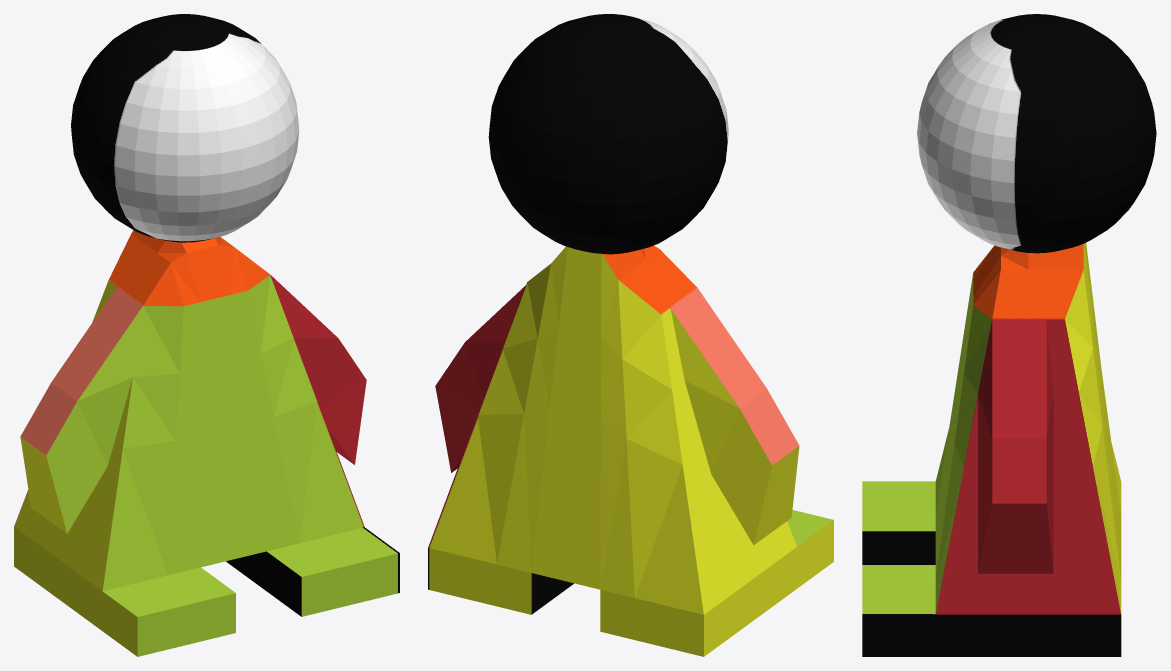
File: player.obj
3 views of the same model, side by side, from view 1: azimuth 30°, elevation 25°; view 2: azimuth 150°, elevation 25°; view 3: azimuth 270°, elevation 25° (orthographic). The views are drawn at different scales.
Visible parts, largest first — view 1: 立方体, 球.001; view 2: 立方体, 球.001; view 3: 立方体, 球.001.
Boxes of the visible parts, x1,y1,x2,y2 form: 立方体: (14, 230, 399, 656); 球.001: (71, 14, 299, 242); 立方体: (428, 245, 833, 656); 球.001: (488, 14, 728, 254); 立方体: (862, 243, 1121, 656); 球.001: (917, 14, 1156, 253).
Size of the model in its own units: 0.6467 by 1.04 by 0.4912.
